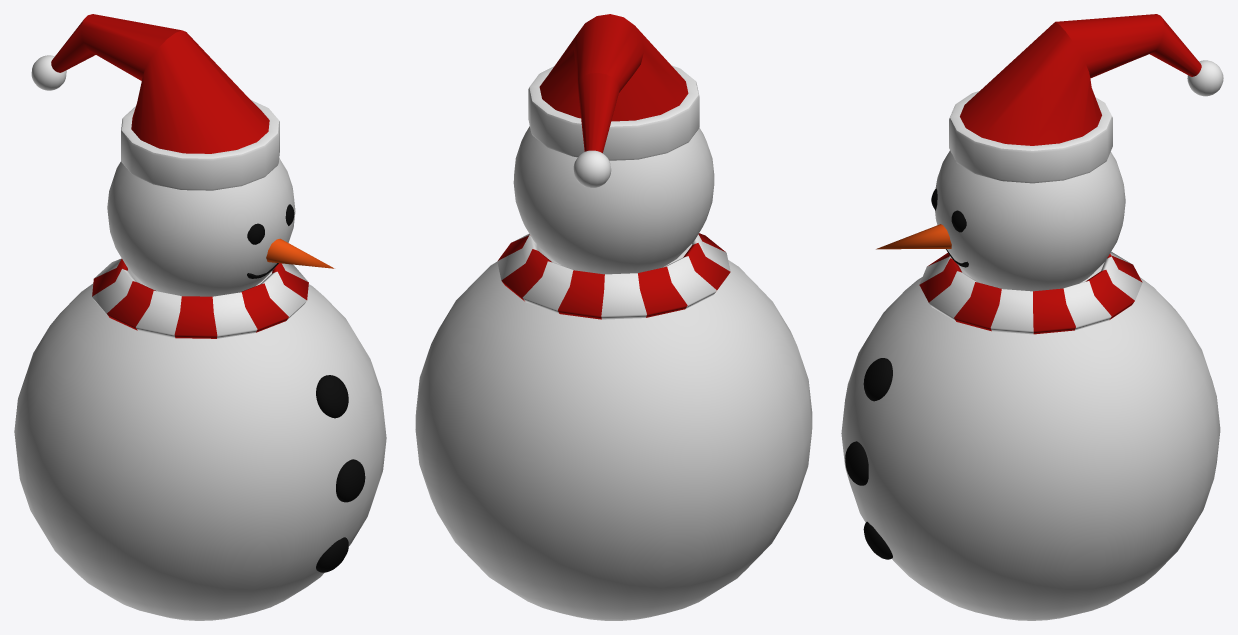
The model's file is snowman.glb.
3 renders of one model, left to right at view 1: azimuth 30°, elevation 25°; view 2: azimuth 150°, elevation 25°; view 3: azimuth 270°, elevation 25°, orthographic. The views are drawn at different scales.
Visible parts, largest first — view 1: Sphere_2, Circle.001_9, Sphere.001_3, Circle.002_10, Sphere.003_5, Sphere.002_4, Cone_7; view 2: Sphere_2, Sphere.001_3, Circle.001_9, Circle.002_10; view 3: Sphere_2, Circle.001_9, Sphere.001_3, Circle.002_10, Sphere.003_5, Cone_7, Sphere.002_4.
Part boxes in pixels (<box>): Sphere_2: <box>14,269,386,620</box>; Circle.001_9: <box>31,14,279,190</box>; Sphere.001_3: <box>107,158,295,296</box>; Circle.002_10: <box>92,258,308,338</box>; Sphere.003_5: <box>316,375,348,572</box>; Sphere.002_4: <box>336,459,365,502</box>; Cone_7: <box>266,238,334,268</box>; Sphere_2: <box>415,244,812,620</box>; Sphere.001_3: <box>513,126,714,274</box>; Circle.001_9: <box>528,14,699,187</box>; Circle.002_10: <box>497,233,730,319</box>; Sphere_2: <box>841,262,1220,620</box>; Circle.001_9: <box>949,14,1223,183</box>; Sphere.001_3: <box>935,150,1125,291</box>; Circle.002_10: <box>919,251,1142,334</box>; Sphere.003_5: <box>863,358,892,559</box>; Cone_7: <box>876,224,951,249</box>; Sphere.002_4: <box>845,441,868,485</box>.
Size of the model in its own units: 1.6 by 2.67 by 1.61.
